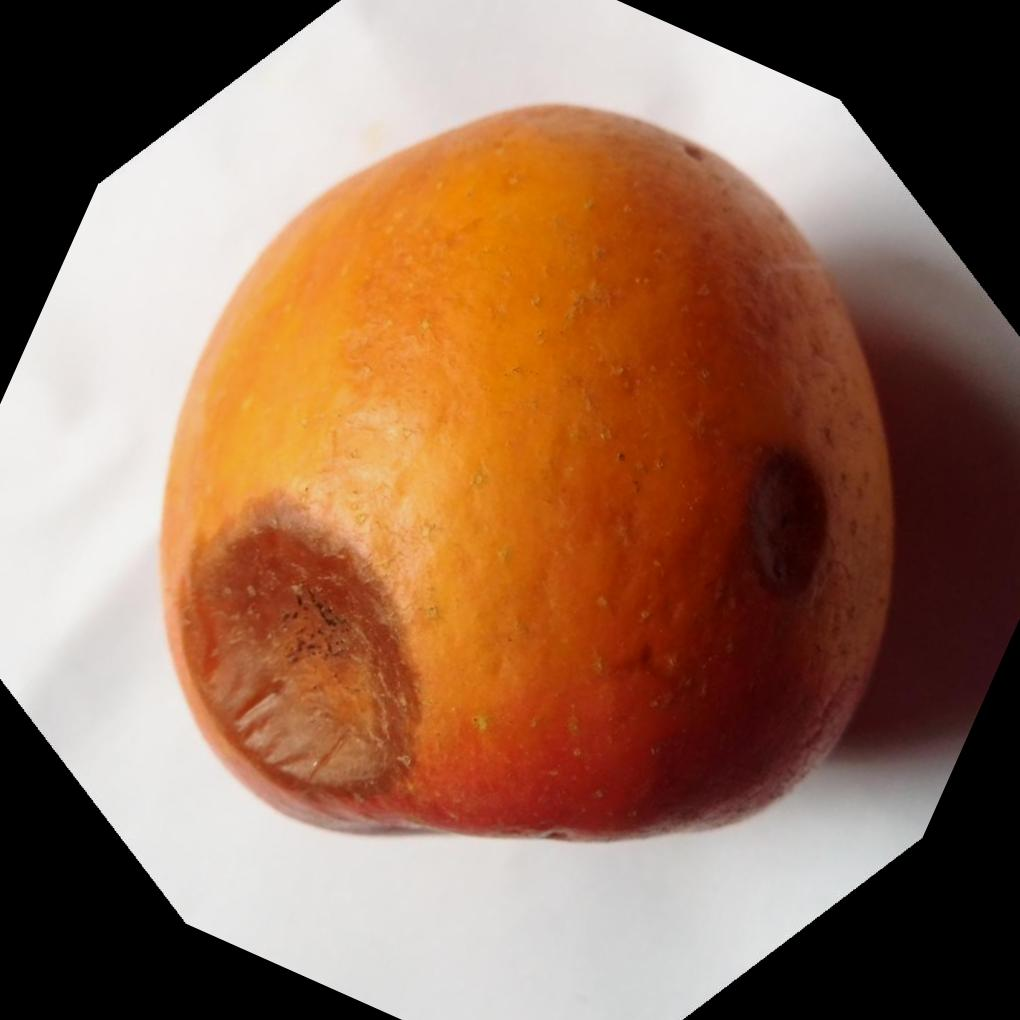FreshOrange: (157, 97, 899, 842)
